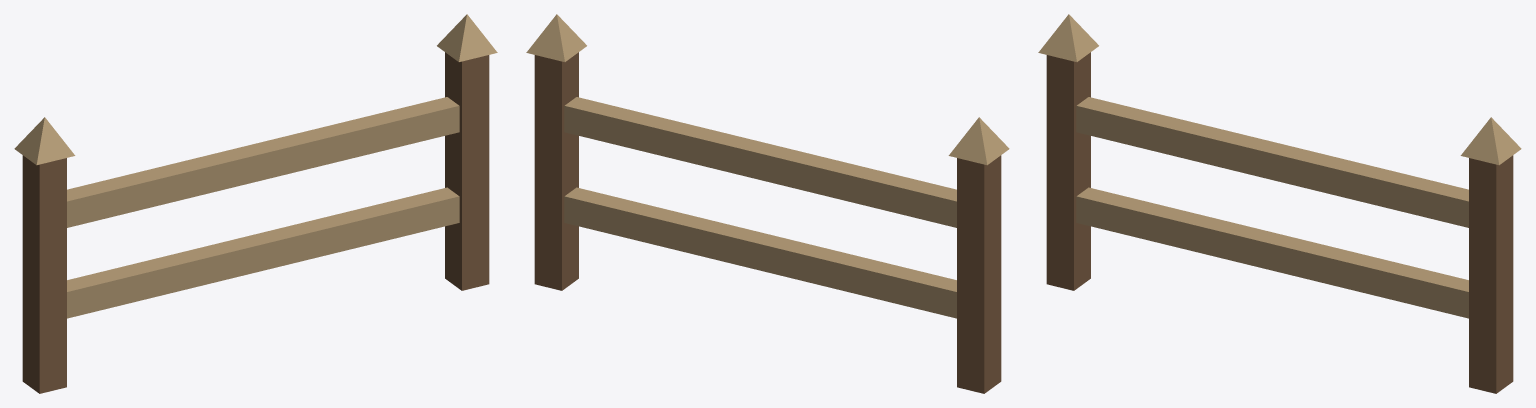
Rendered from fence.glb.
The picture shows the model from 3 angles, left to right: view 1: azimuth 30°, elevation 25°; view 2: azimuth 150°, elevation 25°; view 3: azimuth 330°, elevation 25°; orthographic projection.
Visible parts, largest first — view 1: fence_mesh; view 2: fence_mesh; view 3: fence_mesh.
Part boxes in pixels (bbox=[...]): fence_mesh: bbox=[14, 14, 497, 393]; fence_mesh: bbox=[526, 14, 1009, 393]; fence_mesh: bbox=[1038, 14, 1521, 393].
Bounding box in the file's own units: 2.18 × 1.21 × 0.1838.
